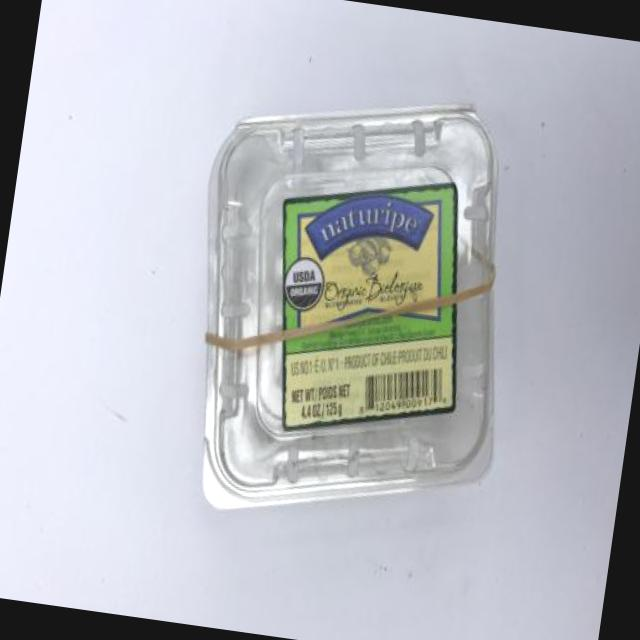Trash: (162, 67, 544, 550)
